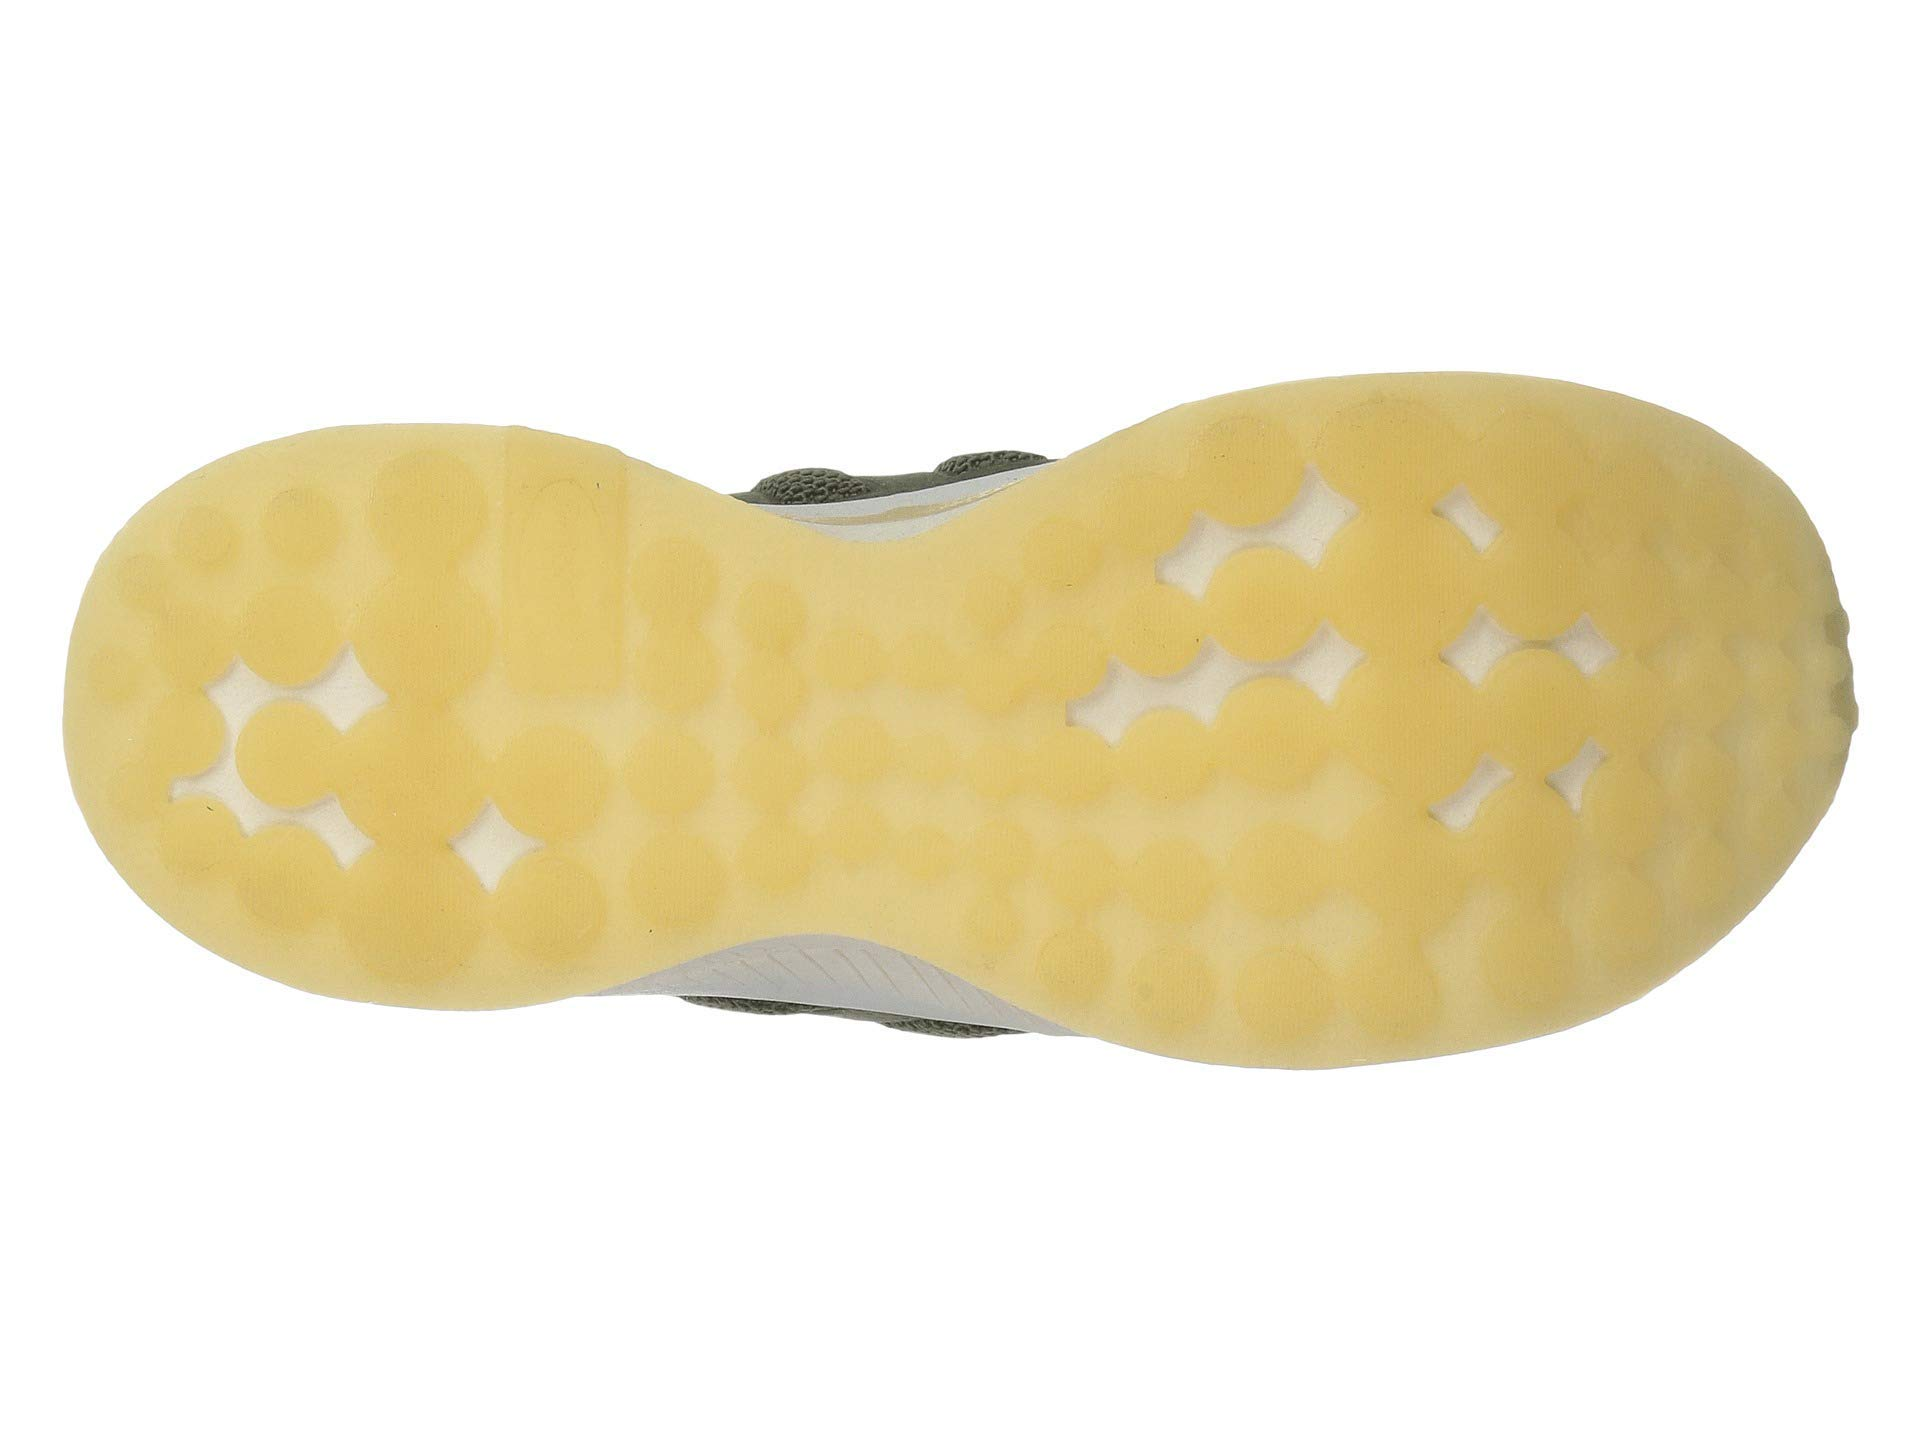circle: (1166, 424, 1788, 953), (203, 439, 720, 882)
quad: (1166, 424, 1788, 953), (203, 439, 720, 882)
